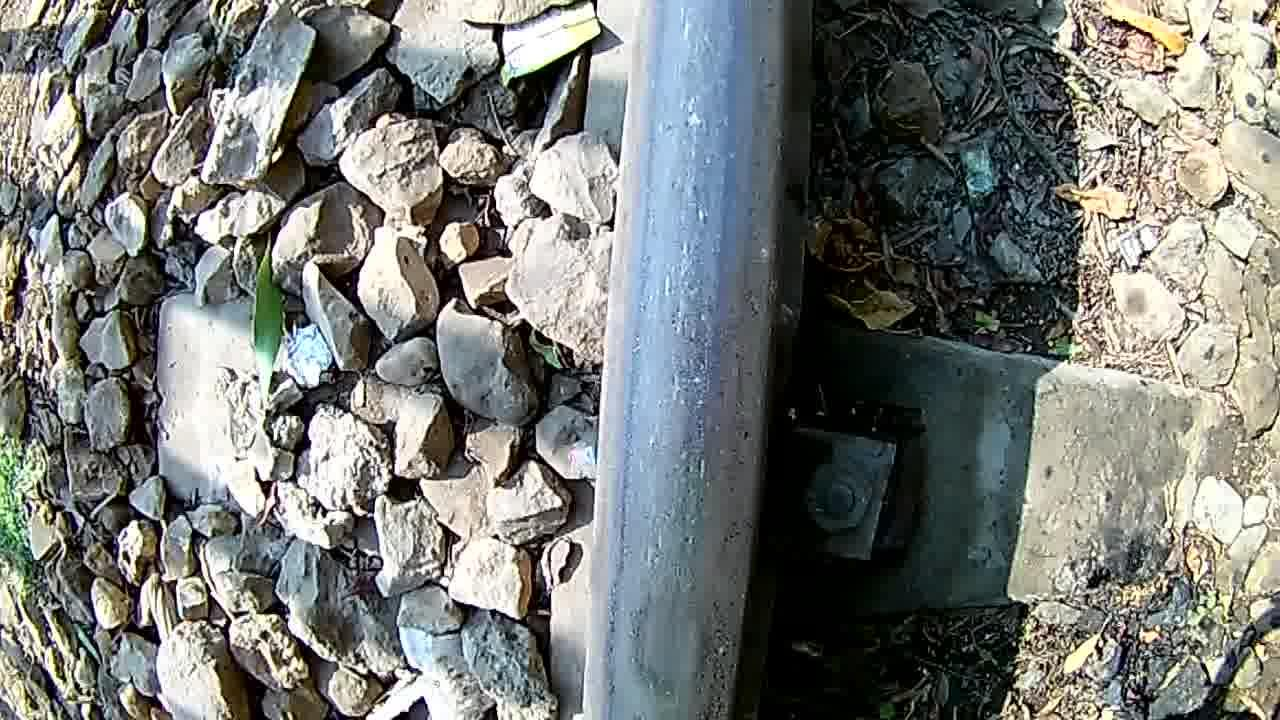bolt_missing: (589, 497, 750, 720)
